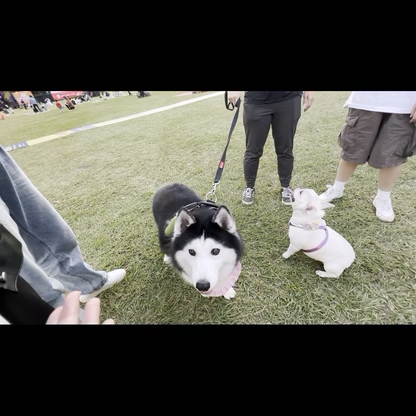bulldog: (279, 184, 363, 283)
husky: (147, 180, 249, 308)
